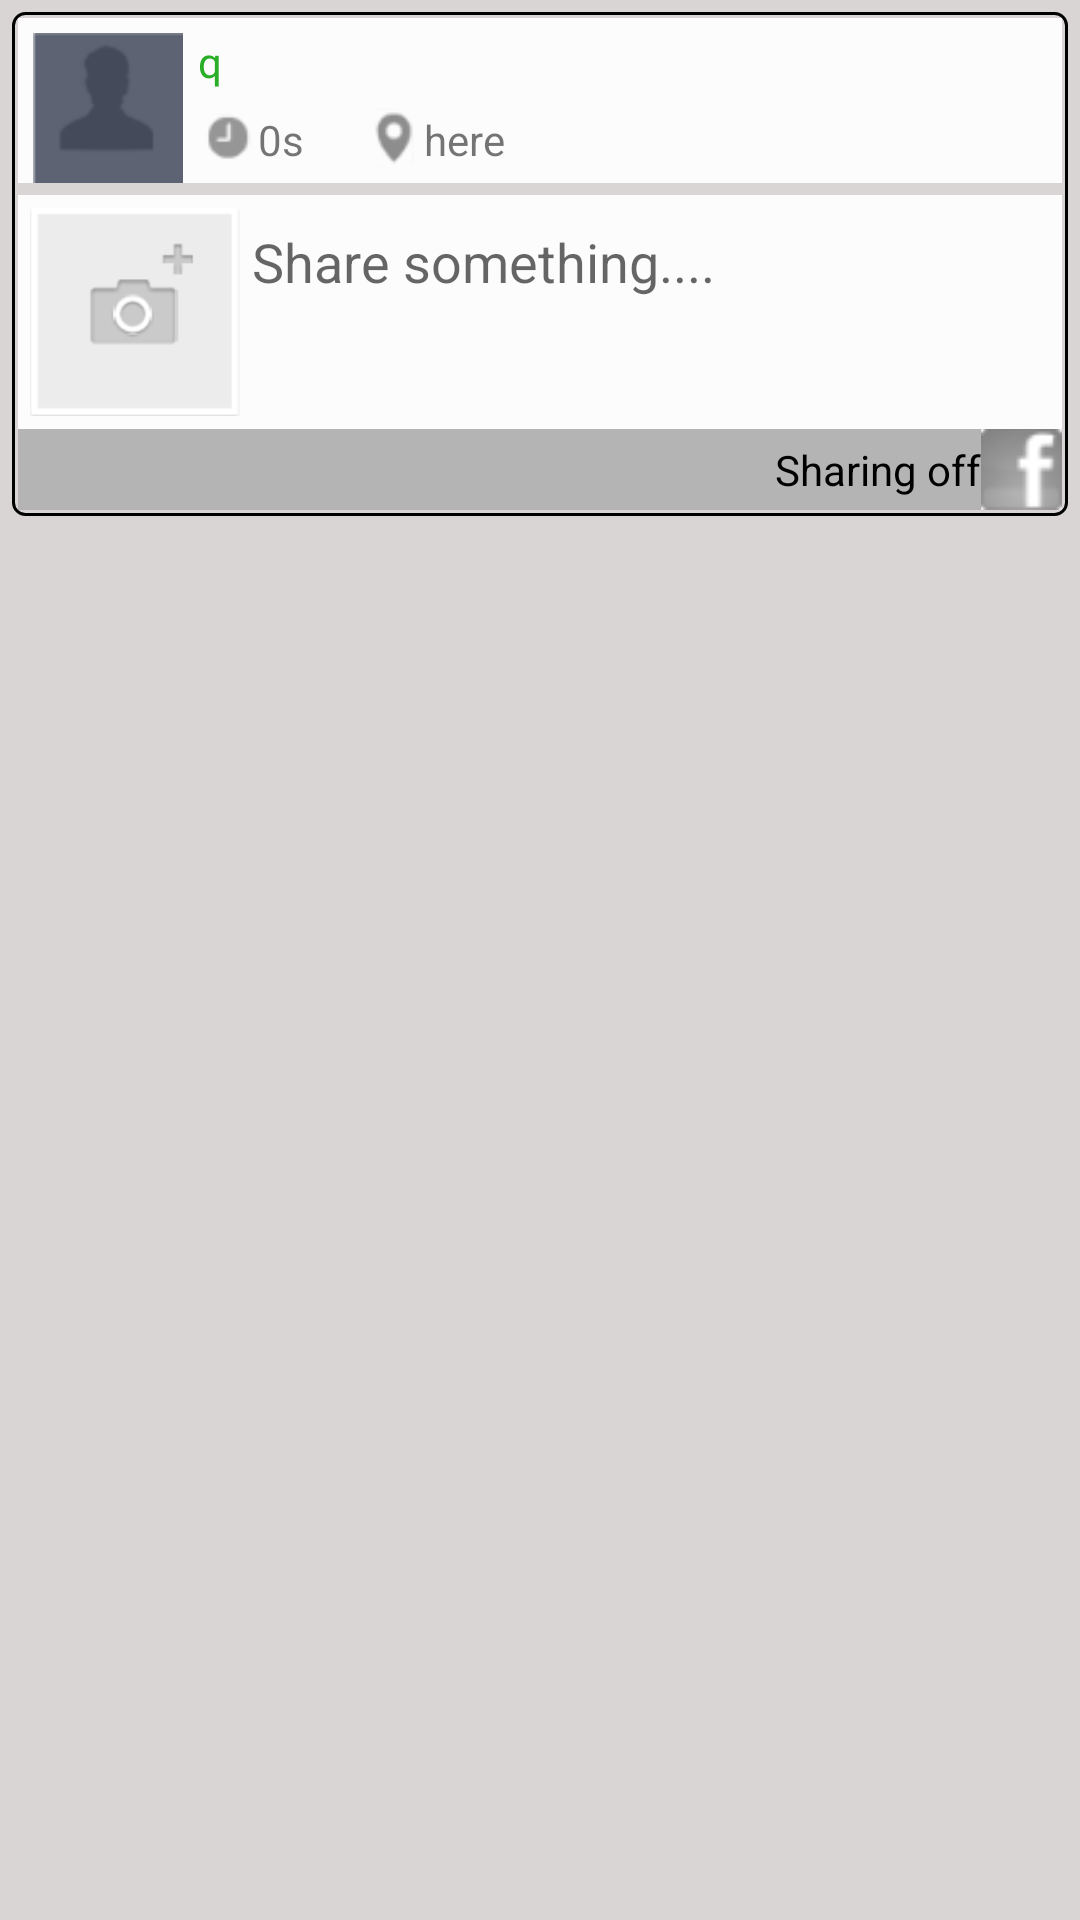

Screen size 1080 × 1920. Icon name, then its box in pixels as (x1, y1, x2, y2):
chat time: (208, 117, 248, 159)
fragment share buzz capture: (30, 211, 240, 416)
